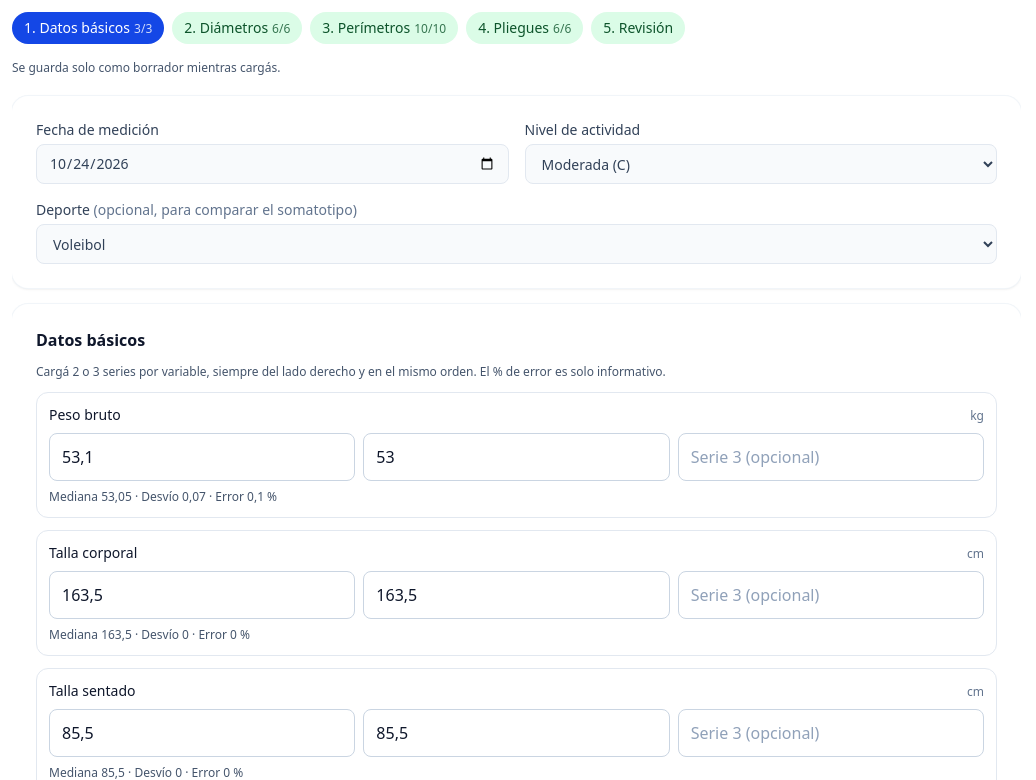
Scenario: error técnico de medición del investigador elegido › cambia con el investigador elegido; sin mediciones vigentes lo explica en vez de mostrar números
Click the button "5. Revisión" at [638, 28], box [591,12,685,44]
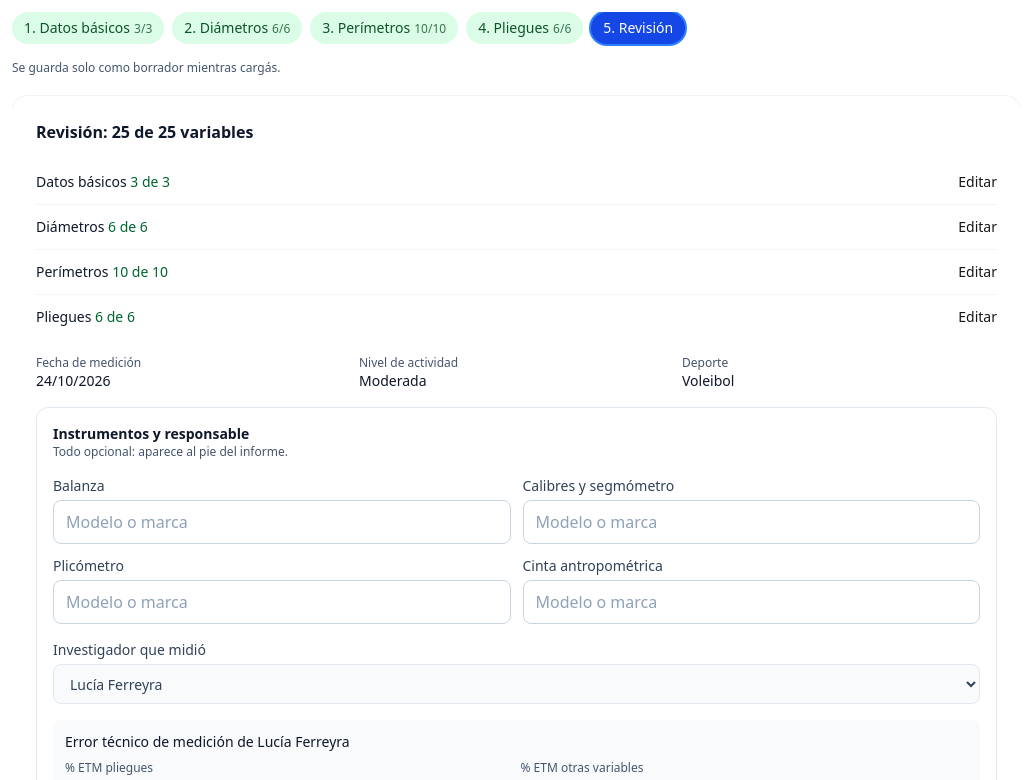
Select "Martín Sosa" in the dropdown labelled "Investigador que midió" at [516, 684], box [53,664,980,704]
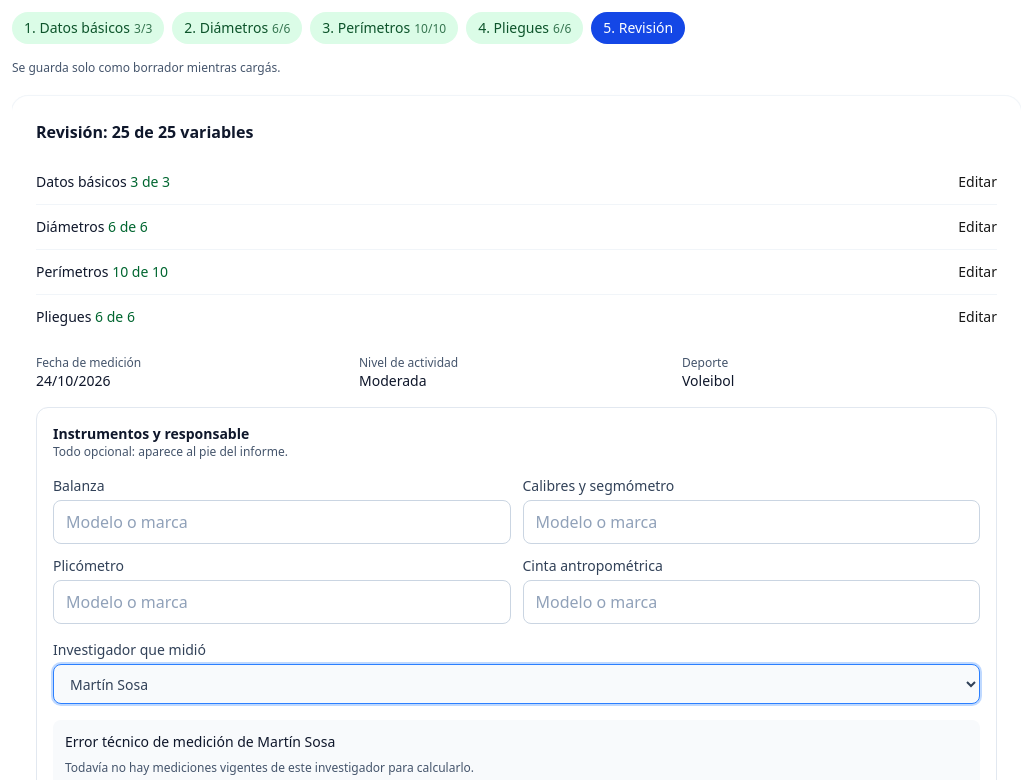
Check: the text "Todavía no hay mediciones vigentes de este investigador para calcularlo." is shown, box [65,759,474,776]
Check: the text "% ETM pliegues" is gone
